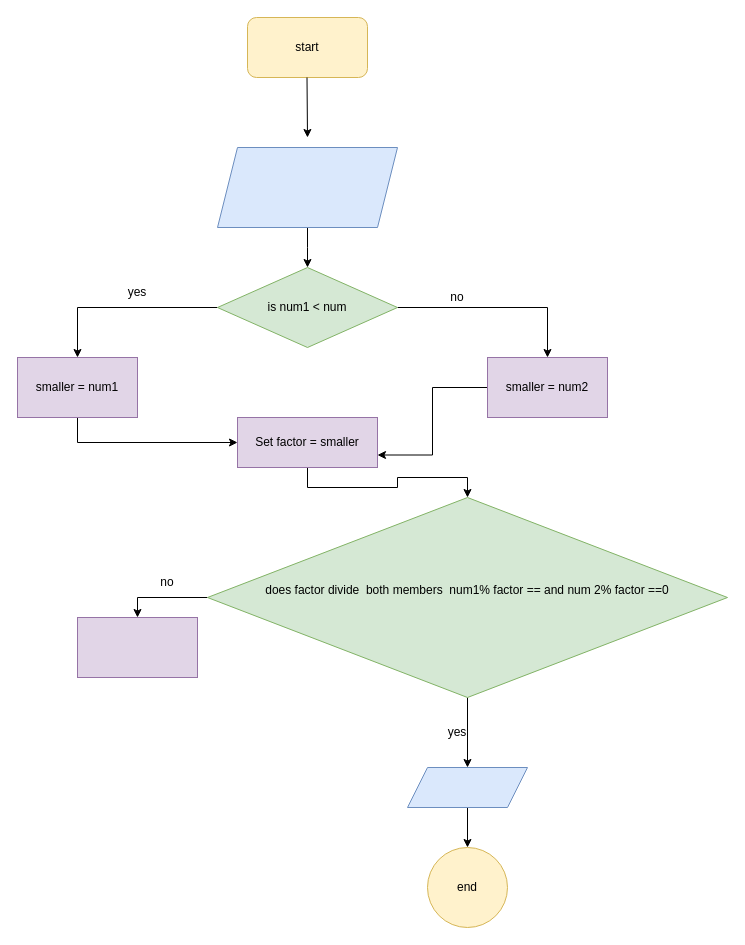
The diagram is 745 pixels wide and 945 high, and some of its shapes have lost their labels. Each missing label, with the centre of its shape:
Enter Num1 Enter Num2: the point at 307,187
factor = factor -1: the point at 137,647
factor as HCF: the point at 467,787
